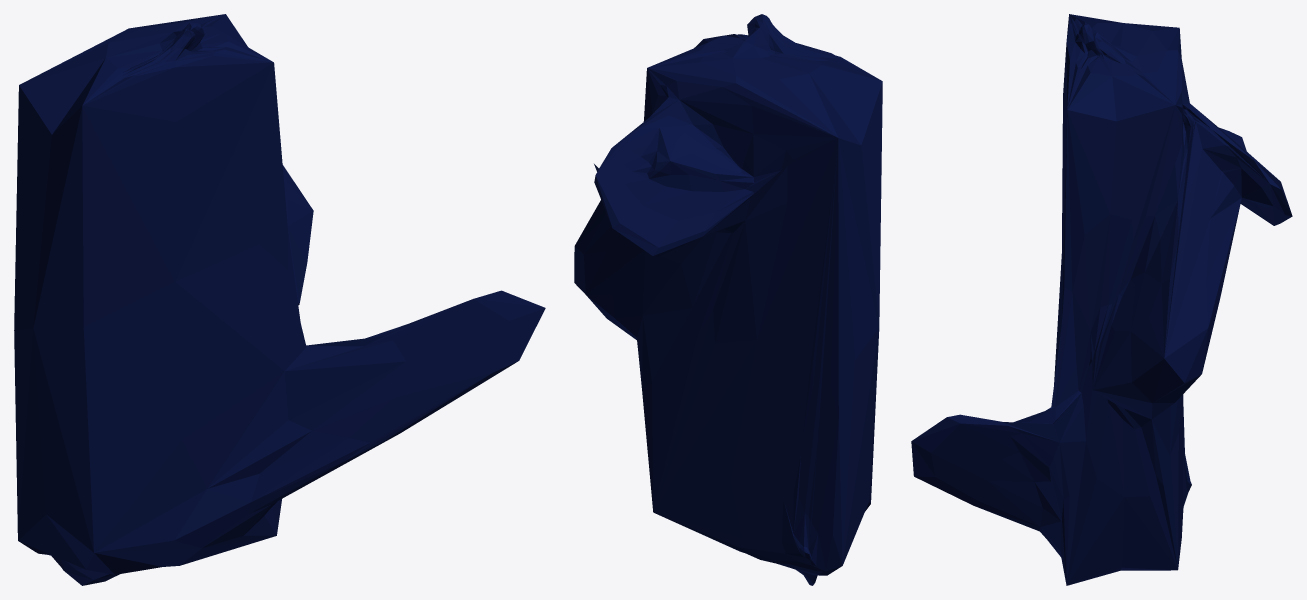
The picture shows the model from 3 angles, left to right: view 1: azimuth 30°, elevation 25°; view 2: azimuth 150°, elevation 25°; view 3: azimuth 270°, elevation 25°; orthographic projection. The views are drawn at different scales.
Visible parts, largest first — view 1: 976_Cube.3940; view 2: 976_Cube.3940; view 3: 976_Cube.3940.
Part boxes in pixels (x1,y1,x2,y2): 976_Cube.3940: (14,14,545,585); 976_Cube.3940: (574,14,882,585); 976_Cube.3940: (911,14,1292,585).
Bounding box in the file's own units: 10.14 × 13.41 × 8.2.
